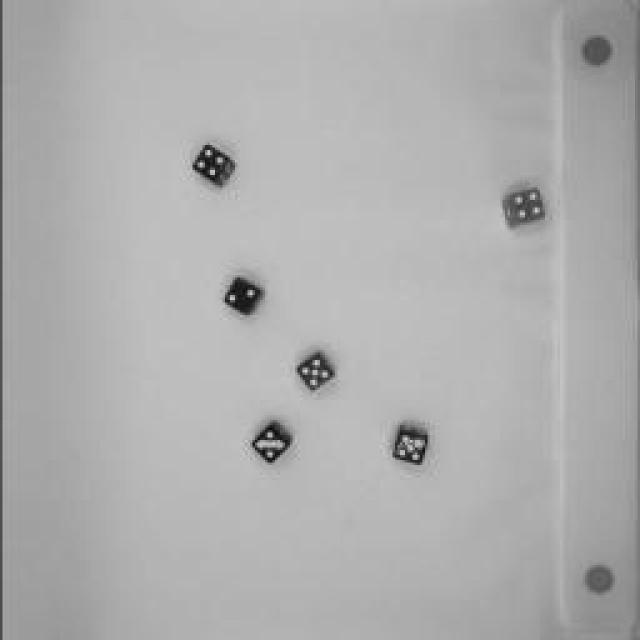dice_2: (218, 274, 268, 321)
dice_4: (185, 139, 237, 191), (498, 184, 548, 236)
dice_5: (246, 420, 299, 470), (385, 421, 435, 469), (288, 348, 340, 392)
